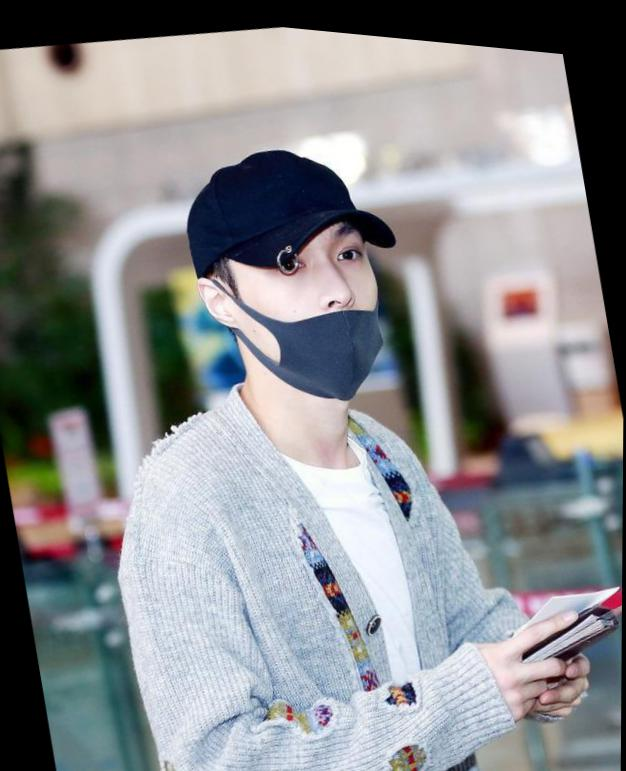WRONG: (242, 189, 403, 409)
